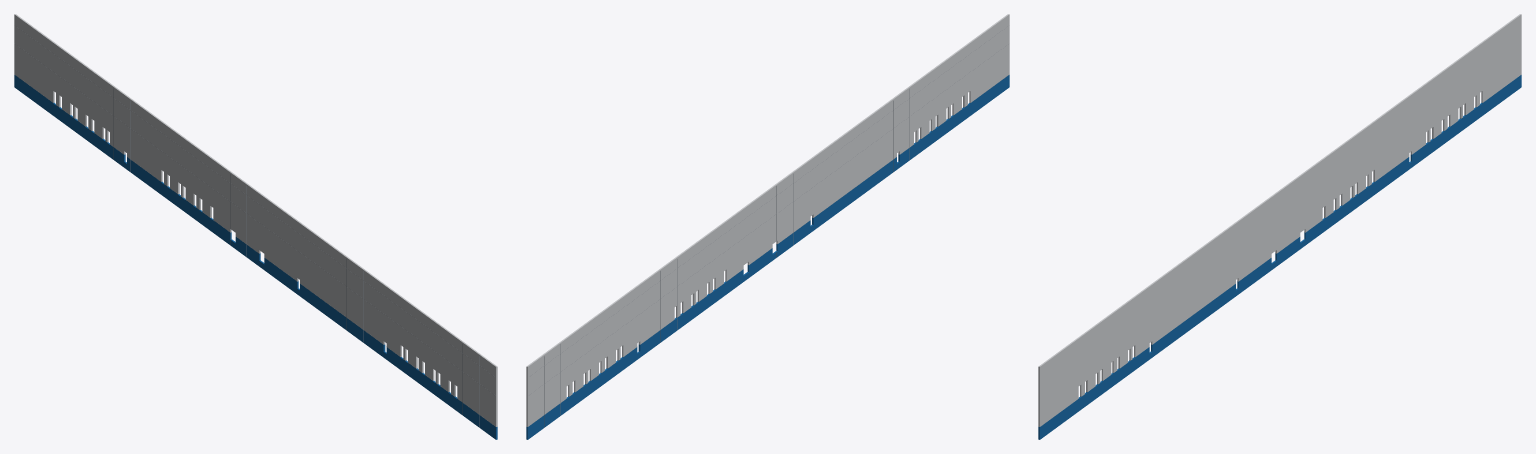
The model's file is SM_MPR_CAD_WindowFacade_15_20261112.fbx.
The picture shows the model from 3 angles, left to right: view 1: azimuth 30°, elevation 25°; view 2: azimuth 150°, elevation 25°; view 3: azimuth 330°, elevation 25°; orthographic projection.
Parts seen in each view (by area): view 1: SM_MPR_CAD_WindowFacade_15_20261112; view 2: SM_MPR_CAD_WindowFacade_15_20261112; view 3: SM_MPR_CAD_WindowFacade_15_20261112.
Part boxes in pixels (left/top/right/bottom): SM_MPR_CAD_WindowFacade_15_20261112: left=14, top=14, right=497, bottom=439; SM_MPR_CAD_WindowFacade_15_20261112: left=526, top=14, right=1009, bottom=439; SM_MPR_CAD_WindowFacade_15_20261112: left=1038, top=14, right=1521, bottom=439.
Size of the model in its own units: 31.44 by 17678 by 1480.
